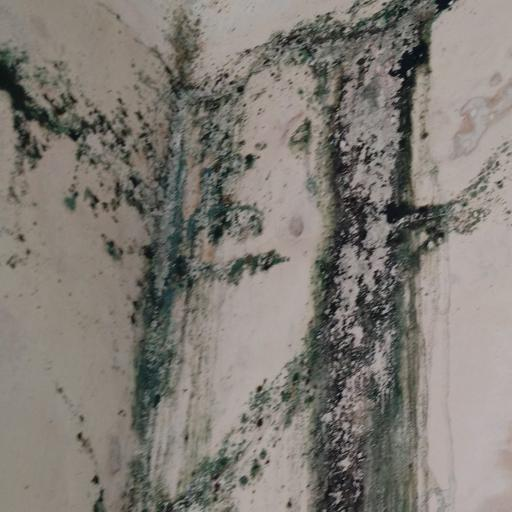algae: (99, 21, 503, 505)
